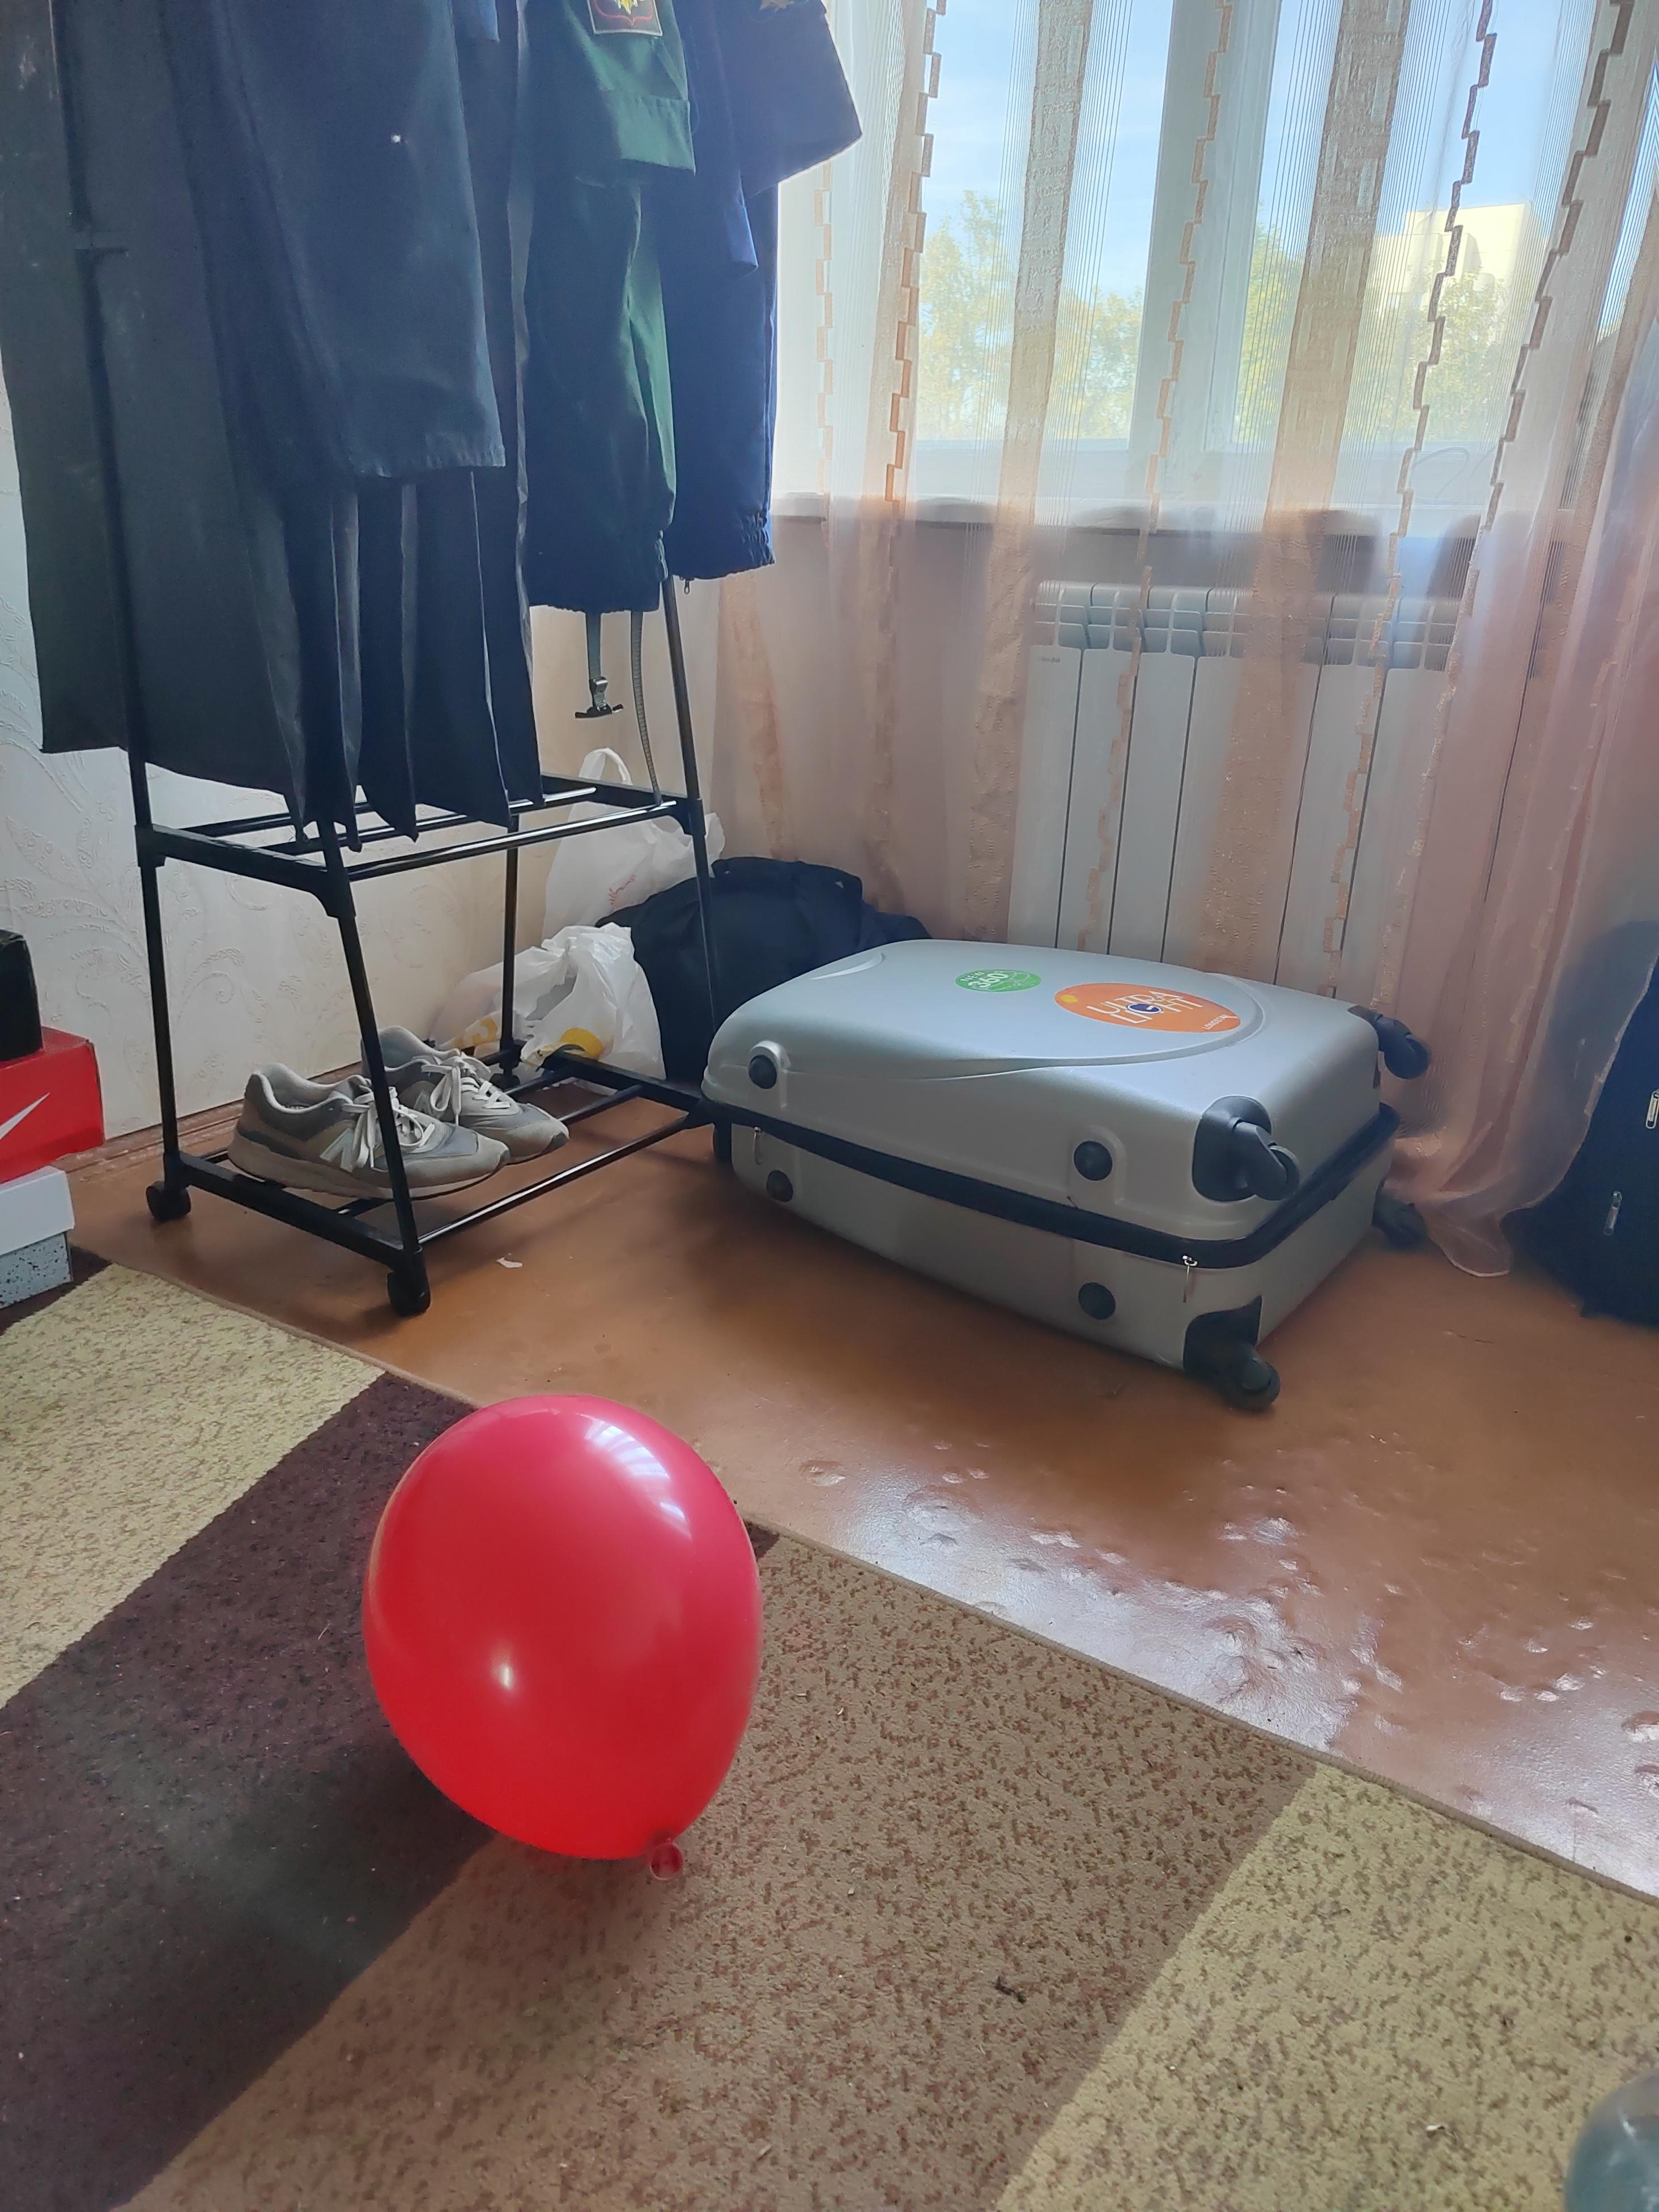red: (335, 1367, 786, 1909)
